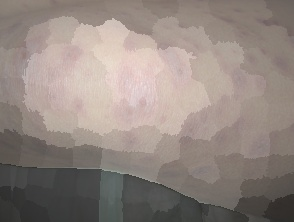SJS-TEN: (82, 0, 294, 187)
